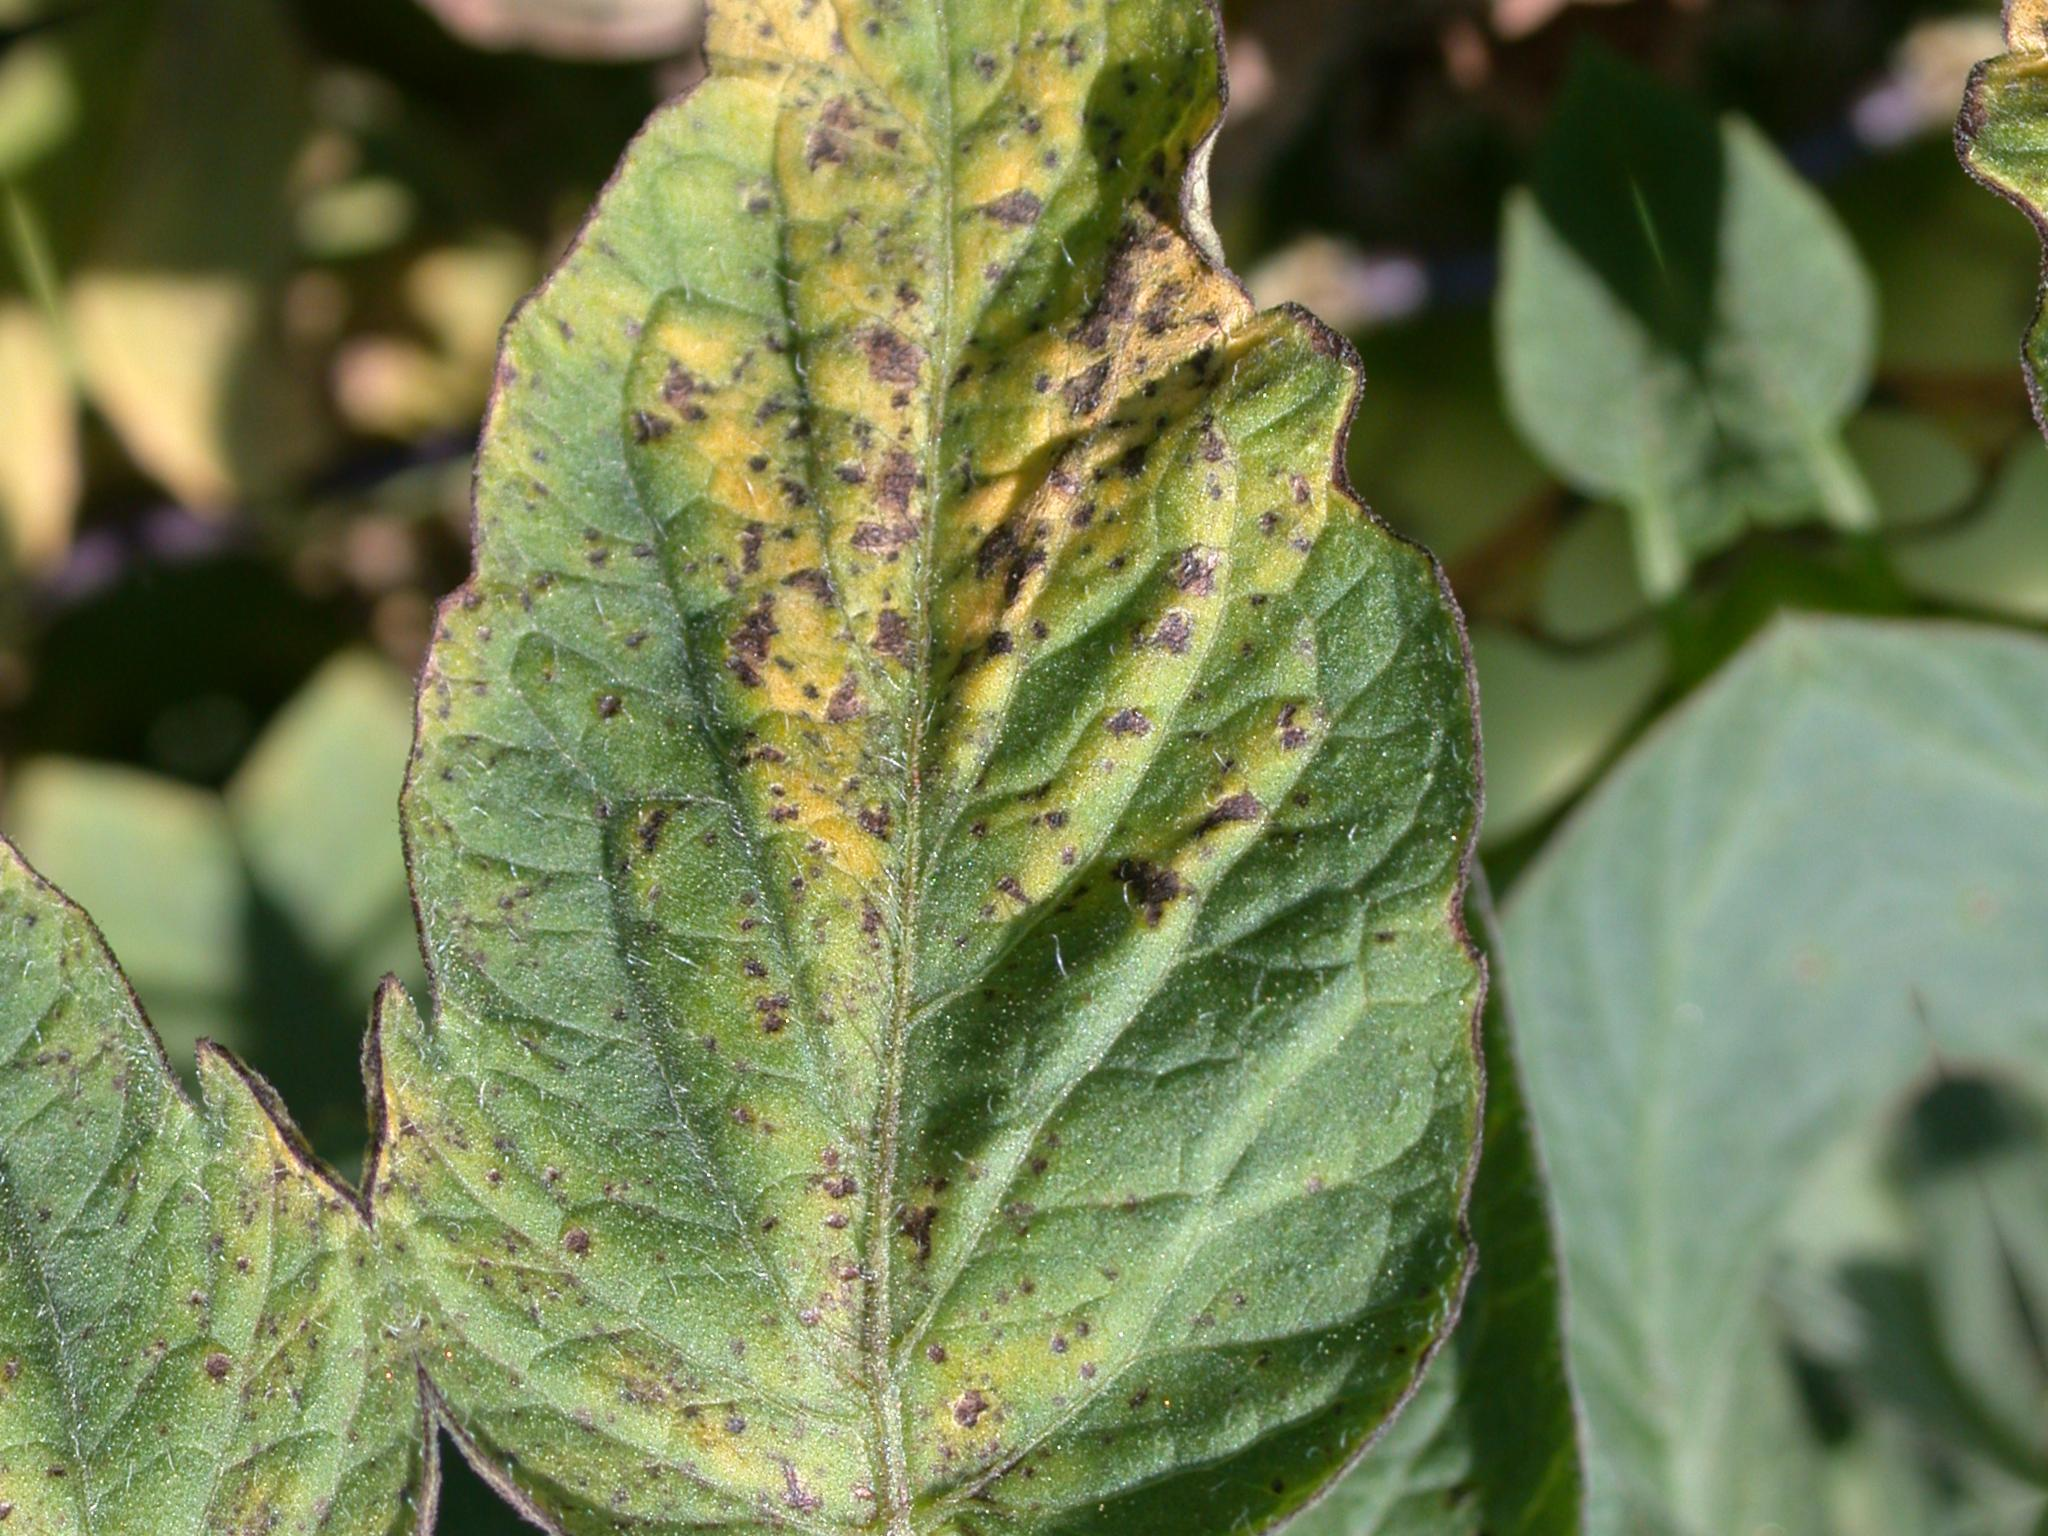Tomato leaf bacterial spot: (0, 0, 1706, 1536)
